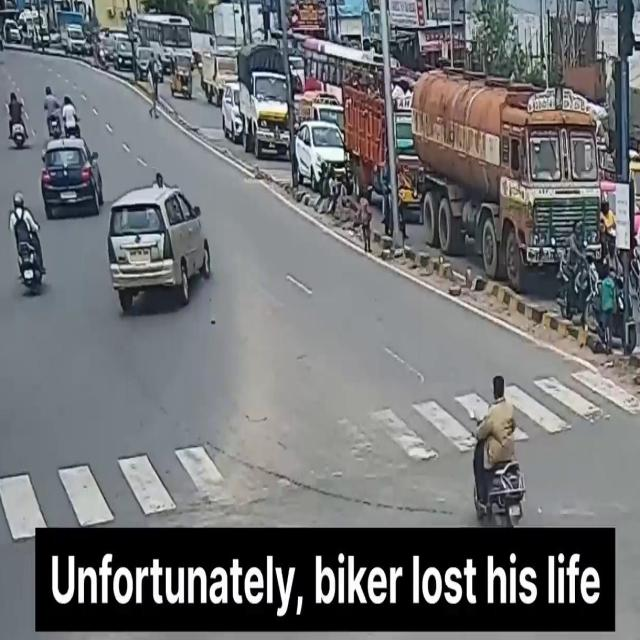accident: (104, 170, 217, 318)
non_accident: (406, 62, 640, 353), (293, 37, 406, 235), (0, 0, 206, 97), (206, 30, 290, 162)
